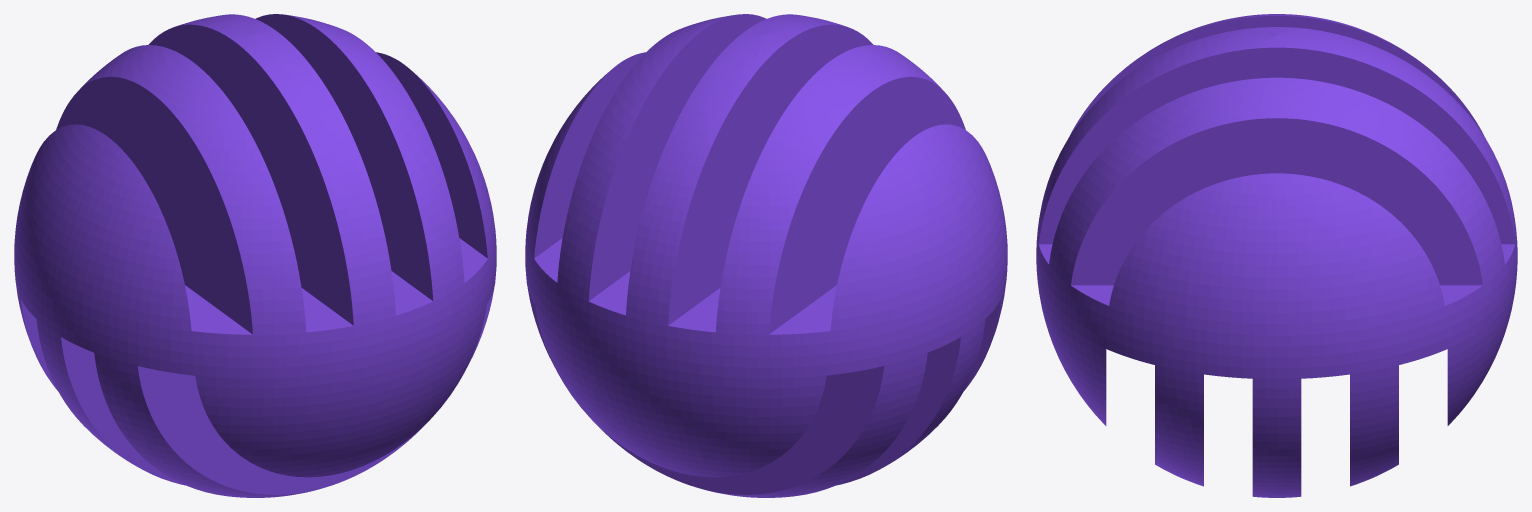
The model's file is blue ball.fbx.
The picture shows the model from 3 angles, left to right: view 1: azimuth 30°, elevation 25°; view 2: azimuth 150°, elevation 25°; view 3: azimuth 270°, elevation 25°; orthographic projection.
Visible parts, largest first — view 1: ball; view 2: ball; view 3: ball.
Boxes of the visible parts, x1,y1,x2,y2 form: ball: [14, 14, 496, 497]; ball: [525, 14, 1007, 497]; ball: [1036, 14, 1517, 497].
Bounding box in the file's own units: 197 × 200 × 197.
